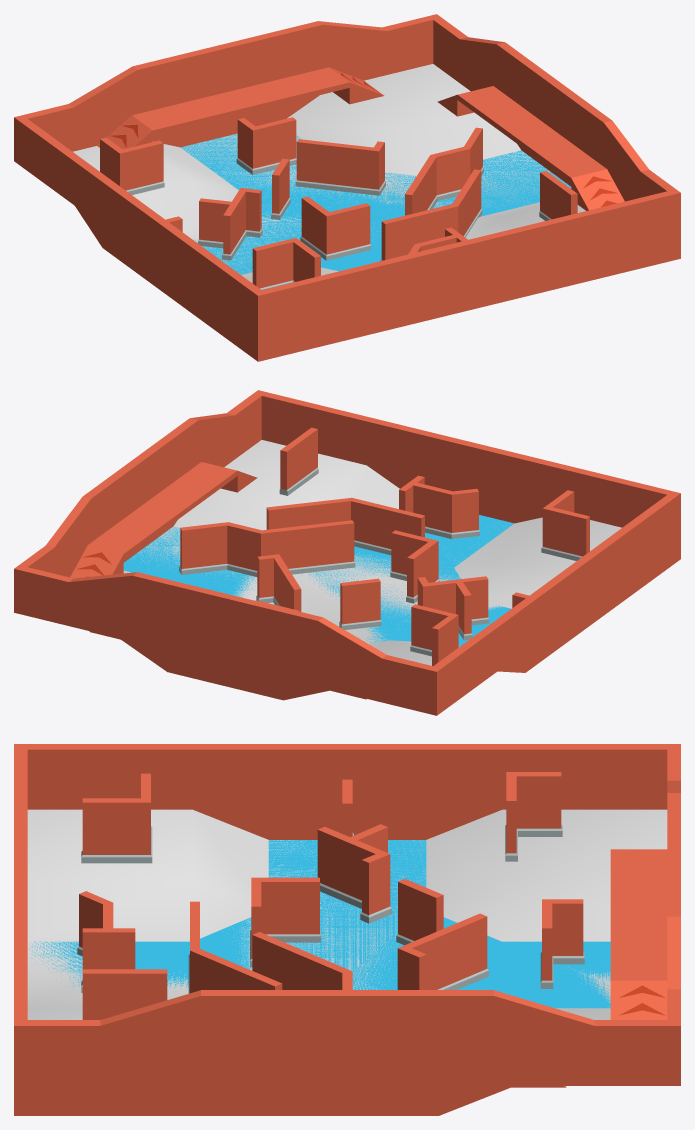
The model's file is Location16.fbx.
3 renders of one model, top to bottom at view 1: azimuth 30°, elevation 25°; view 2: azimuth 150°, elevation 25°; view 3: azimuth 270°, elevation 25°, orthographic. The views are drawn at different scales.
Visible parts, largest first — view 1: outer_wall.16, wall.16, no_stripes.16, bridge.16, water.16; view 2: outer_wall.16, wall.16, no_stripes.16, water.16, bridge.16; view 3: outer_wall.16, no_stripes.16, wall.16, water.16, bridge.16.
Part boxes in pixels (x1=…): outer_wall.16: x1=14, y1=14, x2=680, y2=361; wall.16: x1=16, y1=17, x2=678, y2=295; no_stripes.16: x1=73, y1=64, x2=585, y2=283; bridge.16: x1=97, y1=67, x2=624, y2=210; water.16: x1=180, y1=134, x2=571, y2=274; outer_wall.16: x1=14, y1=390, x2=680, y2=715; wall.16: x1=16, y1=391, x2=678, y2=670; no_stripes.16: x1=123, y1=440, x2=621, y2=665; water.16: x1=123, y1=515, x2=514, y2=646; bridge.16: x1=70, y1=462, x2=366, y2=699; outer_wall.16: x1=14, y1=744, x2=680, y2=1115; no_stripes.16: x1=27, y1=809, x2=667, y2=1019; wall.16: x1=15, y1=744, x2=679, y2=1025; water.16: x1=29, y1=840, x2=610, y2=1008; bridge.16: x1=511, y1=849, x2=667, y2=1087.
Bounding box in the file's own units: 1838 × 365 × 1837.
